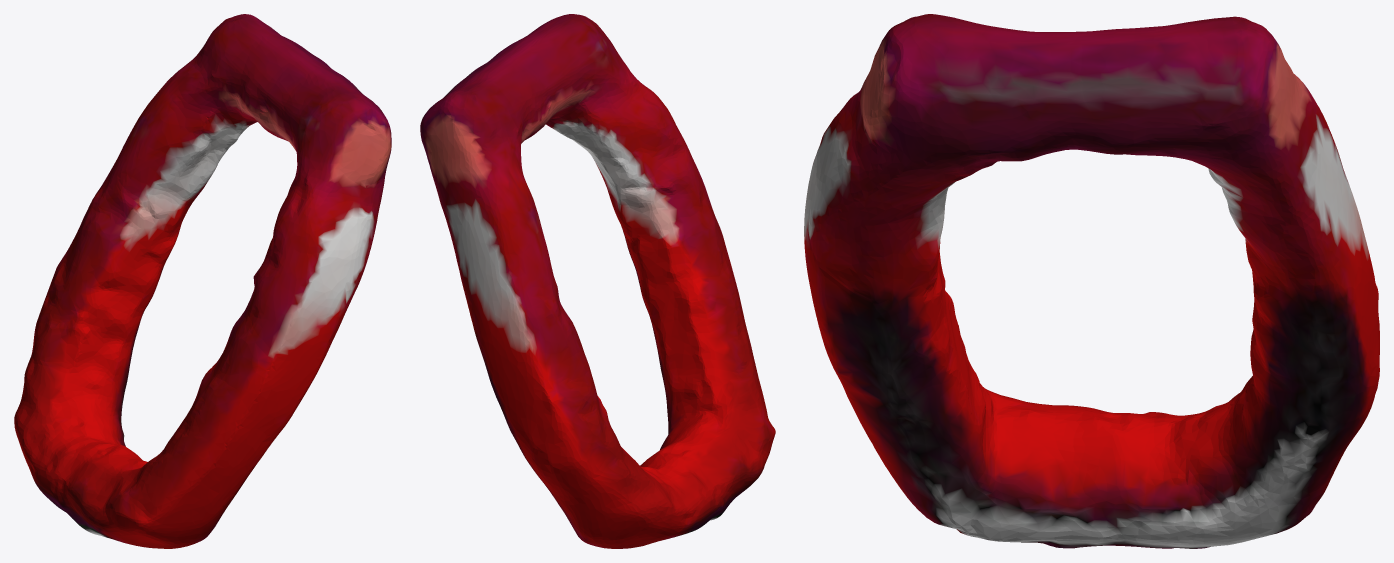
File: vial_red.glb
3 renders of one model, left to right at view 1: azimuth 30°, elevation 25°; view 2: azimuth 150°, elevation 25°; view 3: azimuth 270°, elevation 25°, orthographic. The views are drawn at different scales.
Visible parts, largest first — view 1: geometry_0; view 2: geometry_0; view 3: geometry_0.
Boxes of the visible parts, x1=… form: geometry_0: x1=14, y1=14, x2=391, y2=548; geometry_0: x1=420, y1=14, x2=775, y2=548; geometry_0: x1=804, y1=14, x2=1379, y2=548.
Bounding box in the file's own units: 0.3438 × 0.5213 × 0.4263.
